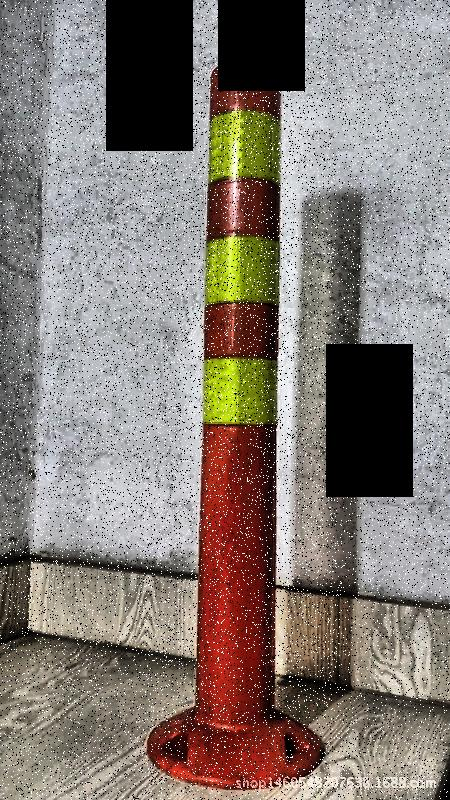bench: (139, 51, 337, 786)
